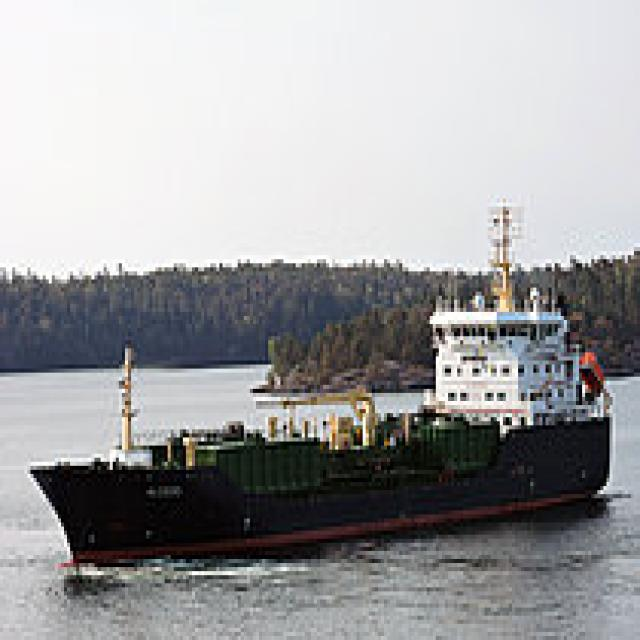Tanker: (21, 190, 612, 567)
